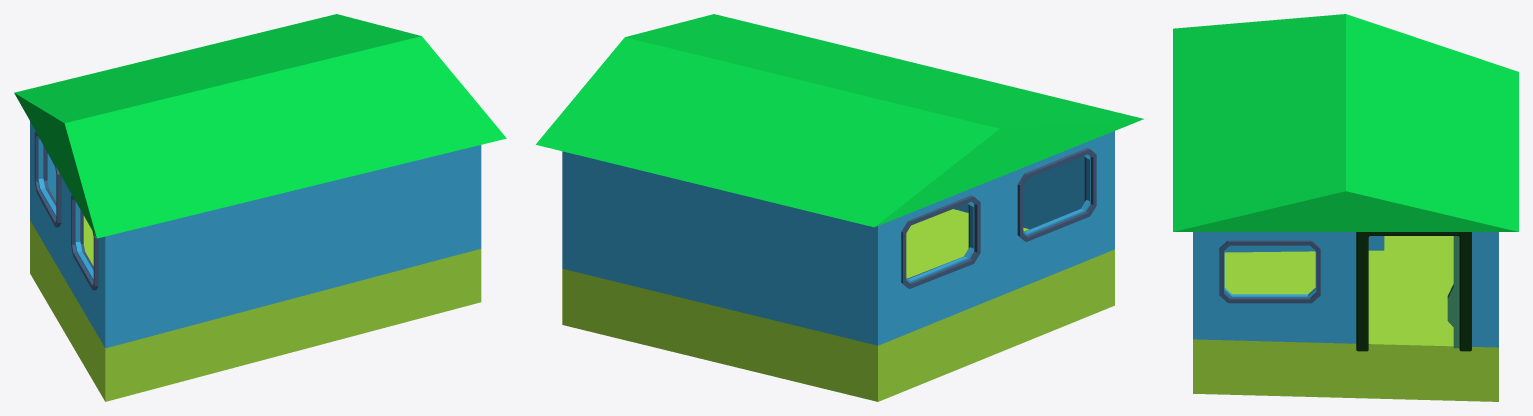
The model's file is Shed.fbx.
3 renders of one model, left to right at view 1: azimuth 30°, elevation 25°; view 2: azimuth 150°, elevation 25°; view 3: azimuth 270°, elevation 25°, orthographic. The views are drawn at different scales.
Visible parts, largest first — view 1: Roof, Shed.001, Cube.001, Window model.003, Window model.002; view 2: Roof, Shed.001, Cube.001, Window model.002, Window model.003; view 3: Roof, Cube.001, Shed.001, Door Frame, Window model.001, Door.
Boxes of the visible parts, box(x1,y1,x2,y2) form: Roof: box(14, 14, 506, 238); Shed.001: box(30, 121, 481, 348); Cube.001: box(30, 216, 481, 401); Window model.003: box(34, 131, 61, 227); Window model.002: box(71, 195, 98, 290); Roof: box(536, 14, 1143, 227); Shed.001: box(562, 131, 1114, 345); Cube.001: box(562, 209, 1114, 401); Window model.002: box(1017, 148, 1096, 241); Window model.003: box(901, 195, 980, 288); Roof: box(1173, 14, 1518, 231); Cube.001: box(1193, 236, 1498, 401); Shed.001: box(1193, 232, 1498, 347); Door Frame: box(1356, 232, 1471, 351); Window model.001: box(1219, 240, 1320, 303); Door: box(1447, 236, 1459, 348).
Bounding box in the file's own units: 1602 × 803 × 1152.
